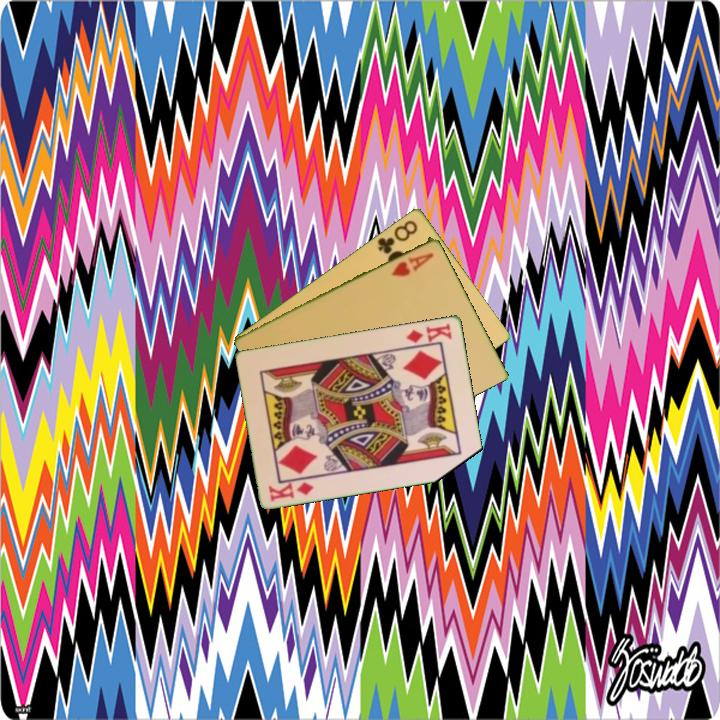8c: (374, 216, 421, 256)
Ah: (388, 249, 436, 279)
Kd: (403, 319, 455, 346), (265, 478, 317, 504)
